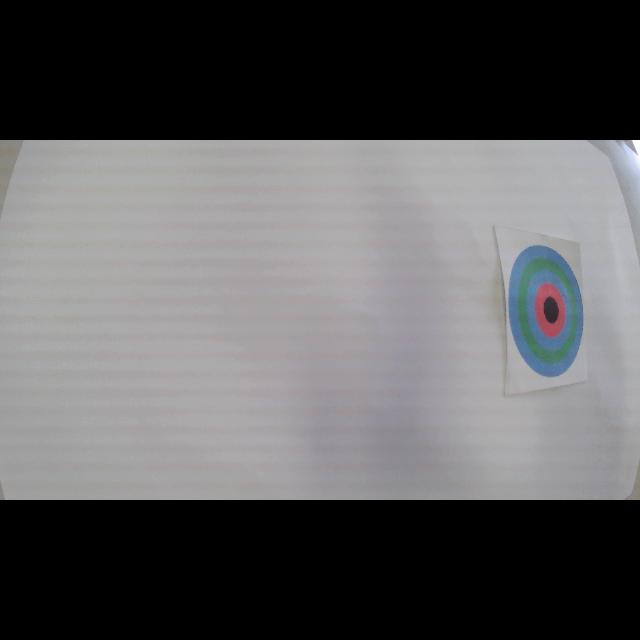COGNITIVE: (508, 244, 584, 378)
